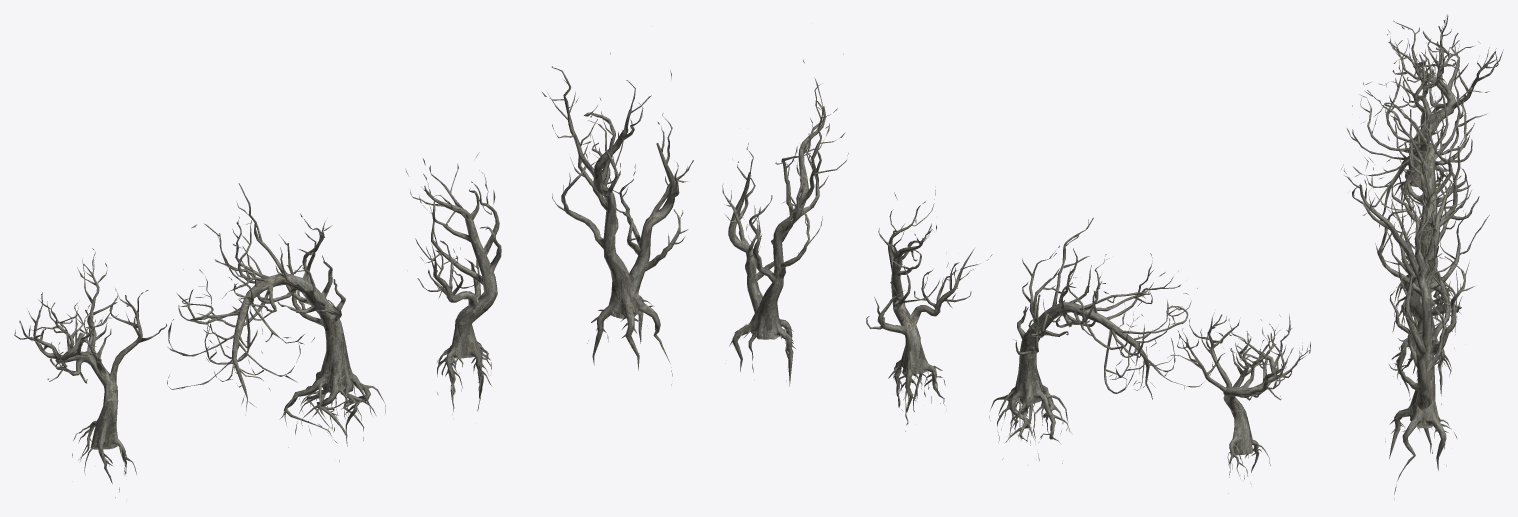
The model's file is dead-trees-demo.glb.
The picture shows the model from 3 angles, left to right: view 1: azimuth 30°, elevation 25°; view 2: azimuth 150°, elevation 25°; view 3: azimuth 270°, elevation 25°; orthographic projection. The views are drawn at different scales.
Parts seen in each view (by area): view 1: Object_4; view 2: Object_4; view 3: Object_4.
Part boxes in pixels (x1,y1,x2,y2): Object_4: (14,52,693,497); Object_4: (722,54,1310,493); Object_4: (1341,14,1503,499).
Size of the model in its own units: 19.06 by 11.37 by 4.38.
1 material, 1 textured.
